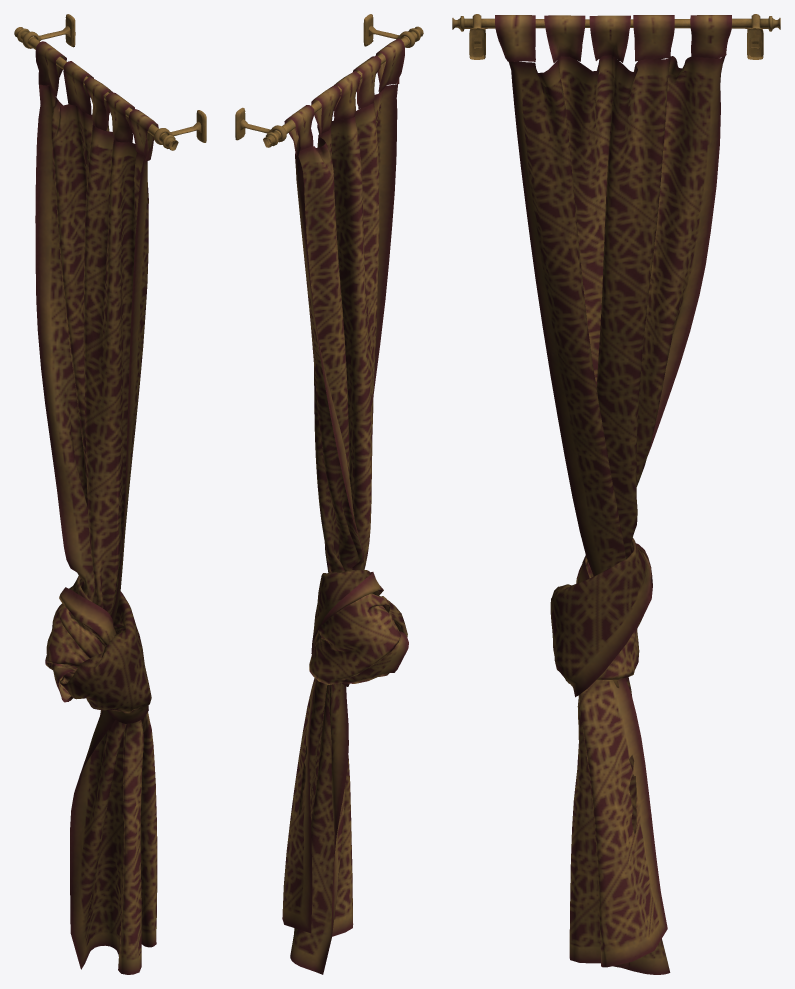
The model's file is SM_CurtainKnot_Guard.fbx.
3 views of the same model, side by side, from view 1: azimuth 30°, elevation 25°; view 2: azimuth 150°, elevation 25°; view 3: azimuth 270°, elevation 25° (orthographic). The views are drawn at different scales.
Parts seen in each view (by area): view 1: SM_CurtainKnot_Guard_LOD0; view 2: SM_CurtainKnot_Guard_LOD0; view 3: SM_CurtainKnot_Guard_LOD0.
Part boxes in pixels (box(x1,y1,x2,y2)): SM_CurtainKnot_Guard_LOD0: box(14, 14, 206, 974); SM_CurtainKnot_Guard_LOD0: box(235, 14, 423, 974); SM_CurtainKnot_Guard_LOD0: box(452, 14, 780, 974).
Bounding box in the file's own units: 70.27 × 174 × 566.
Materials: 1 (1 with a texture image).
